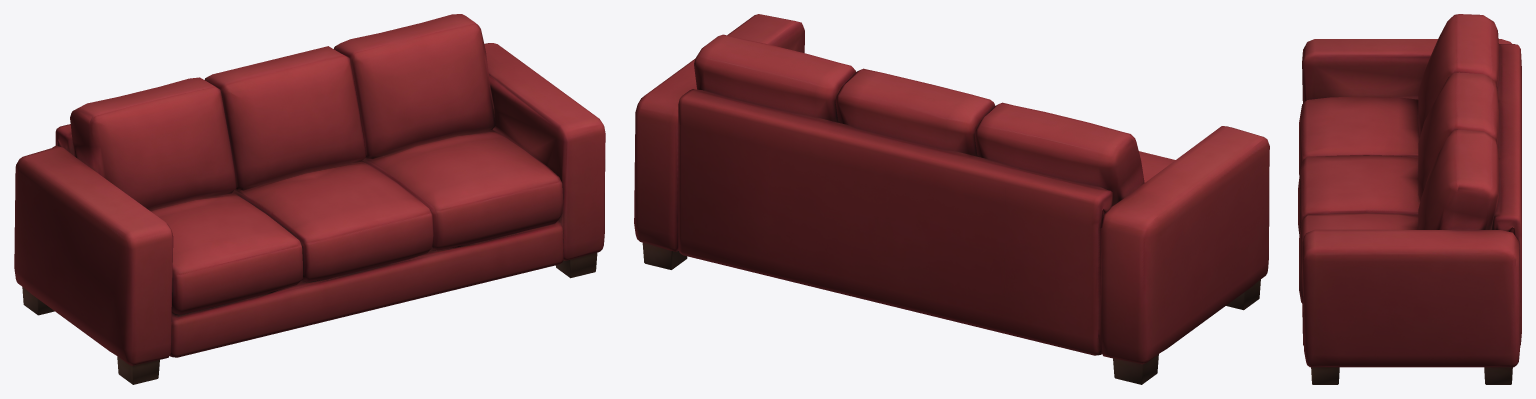
The model's file is couch.glb.
3 views of the same model, side by side, from view 1: azimuth 30°, elevation 25°; view 2: azimuth 150°, elevation 25°; view 3: azimuth 270°, elevation 25° (orthographic). The views are drawn at different scales.
Visible parts, largest first — view 1: tripo_node_1104847e-d30a-458b-ab5e-34e3c66d937d; view 2: tripo_node_1104847e-d30a-458b-ab5e-34e3c66d937d; view 3: tripo_node_1104847e-d30a-458b-ab5e-34e3c66d937d.
Boxes of the visible parts, x1,y1,x2,y2 form: tripo_node_1104847e-d30a-458b-ab5e-34e3c66d937d: (14,14,605,384); tripo_node_1104847e-d30a-458b-ab5e-34e3c66d937d: (634,14,1269,384); tripo_node_1104847e-d30a-458b-ab5e-34e3c66d937d: (1298,14,1521,384).
Bounding box in the file's own units: 0.998 × 0.4004 × 0.4395.
1 material, 1 textured.
